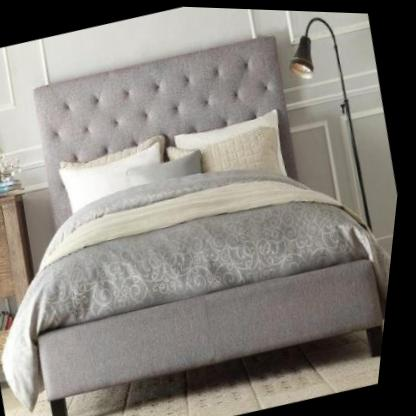Bed: (9, 35, 397, 416)
